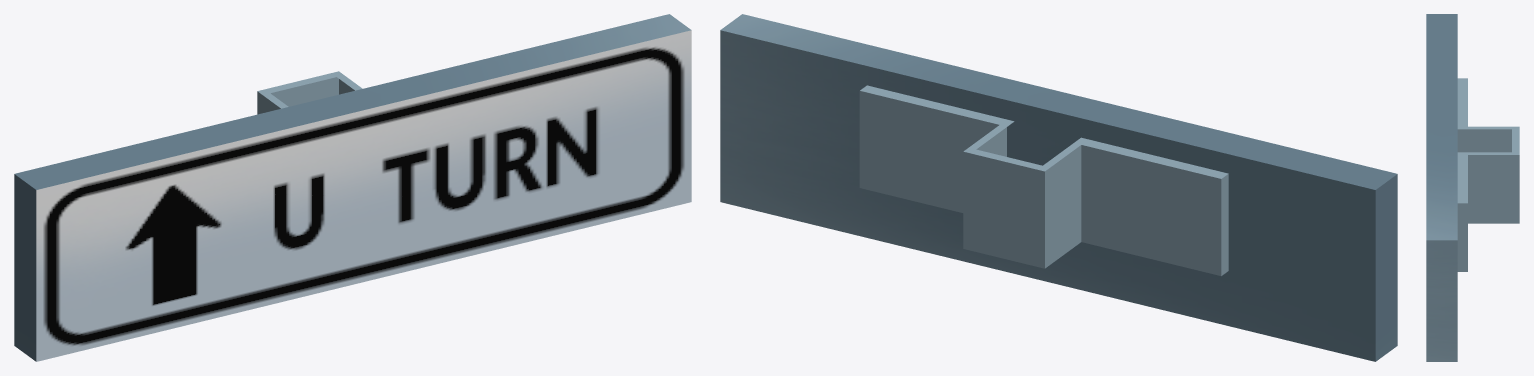
File: Sign80.fbx
3 views of the same model, side by side, from view 1: azimuth 30°, elevation 25°; view 2: azimuth 150°, elevation 25°; view 3: azimuth 270°, elevation 25° (orthographic). The views are drawn at different scales.
Parts seen in each view (by area): view 1: Sign80; view 2: Sign80; view 3: Sign80.
Part boxes in pixels (x1=…): Sign80: x1=14, y1=14, x2=691, y2=361; Sign80: x1=720, y1=14, x2=1397, y2=361; Sign80: x1=1426, y1=14, x2=1519, y2=361.
Size of the model in its own units: 0.8539 by 0.1489 by 0.214.
